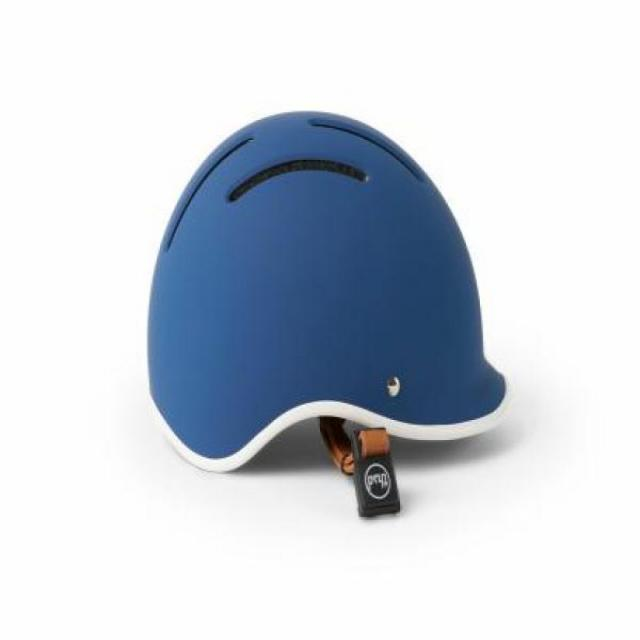Helmet: (145, 117, 512, 520)
